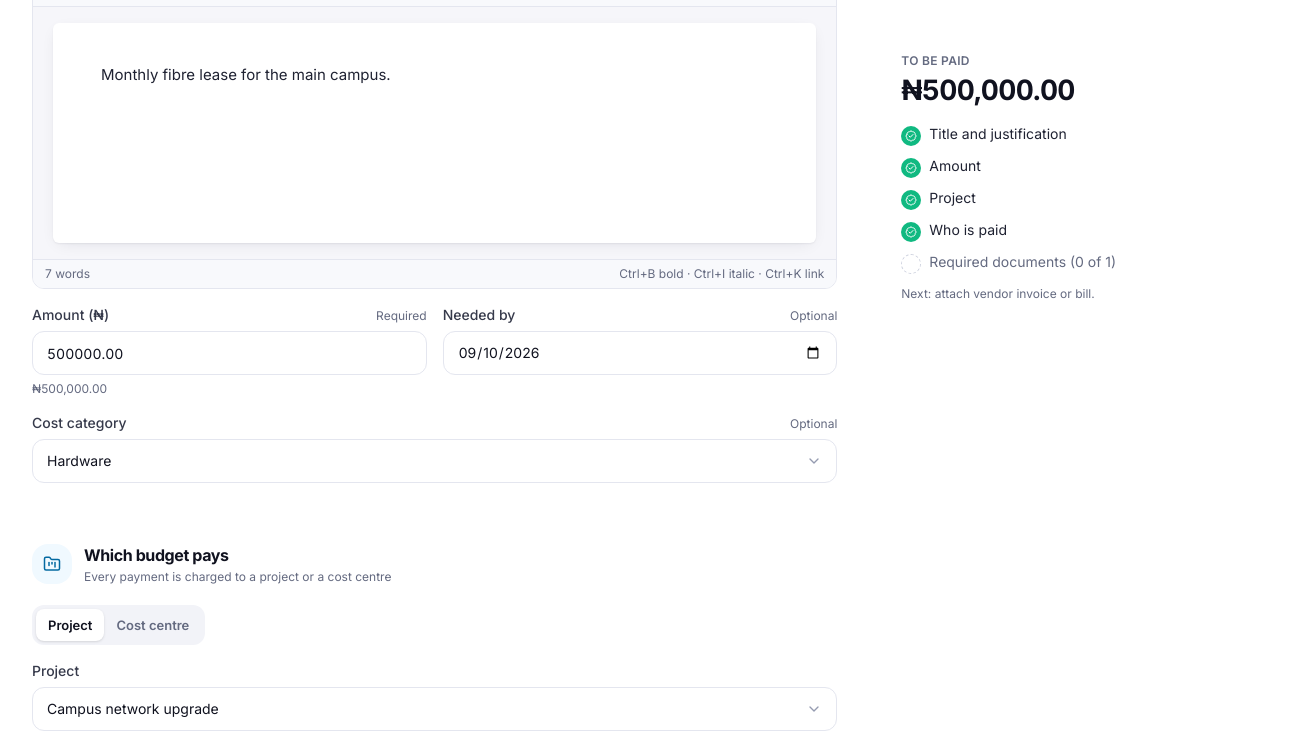
RequestEditor › shows the project's funds as the amount is typed, and the three-quote rule from its threshold
(page scrolled)
Replace the text in the field labelled "Amount (₦)" with "1,200,000" at (229,353), box [32,331,427,375]
(page scrolled)
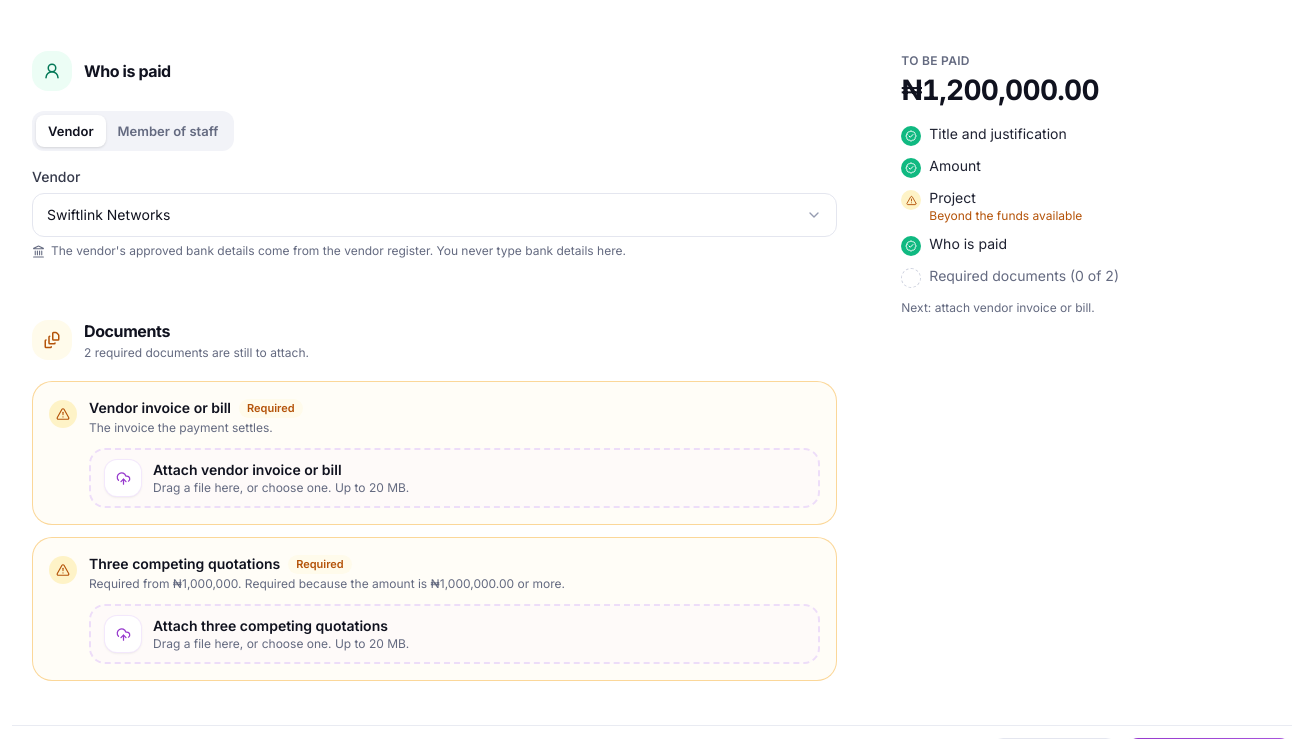
Result: the text "Required because the amount is ₦1,000,000.00 or more" is shown at [89,576,565,591]
Result: the text "2 required documents are still to attach." is shown at [84,345,309,361]
